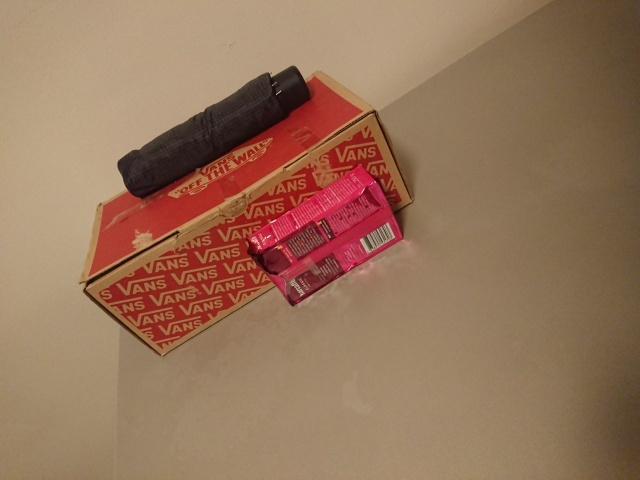Barcaffe Classic Original 225g: (241, 163, 406, 309)
